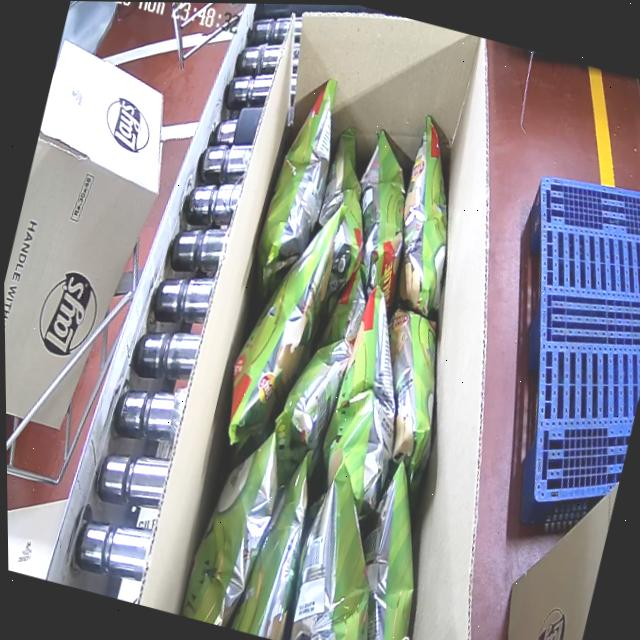YOGURT_HERB: (163, 76, 535, 640)
